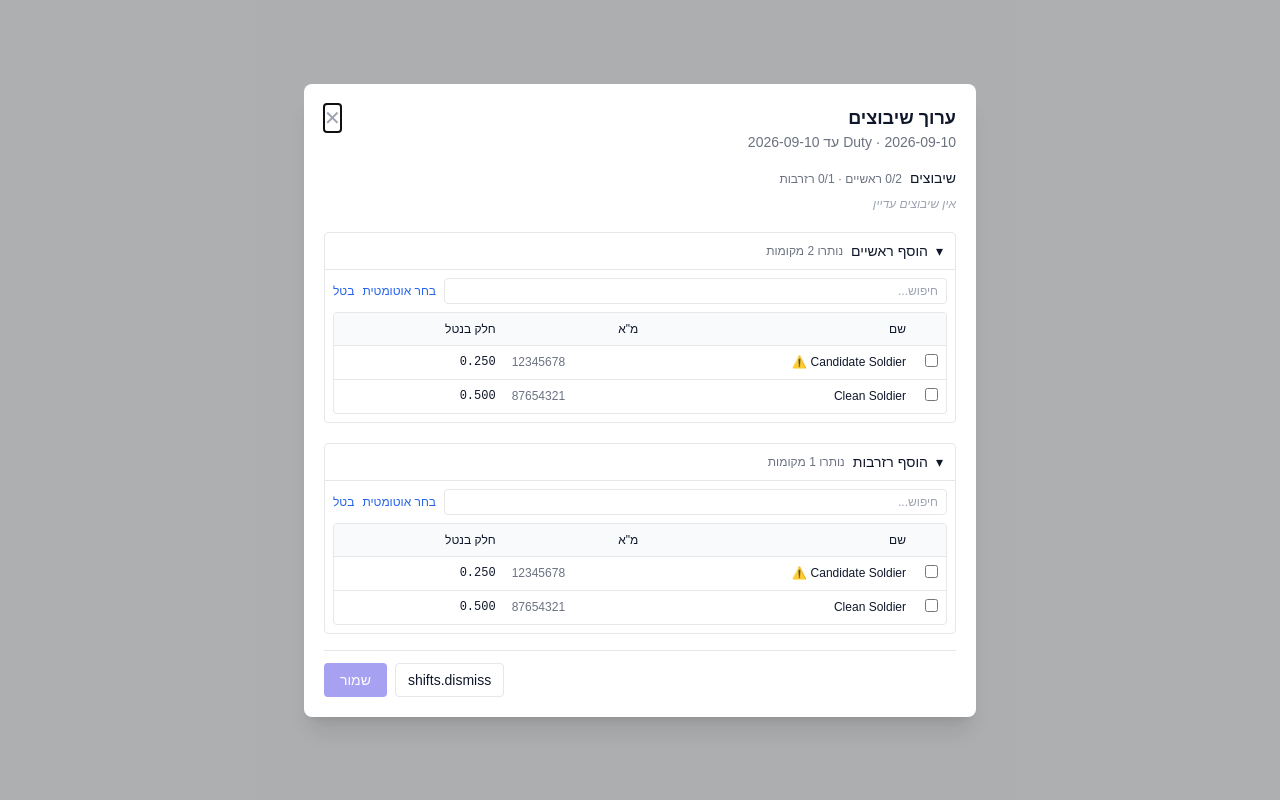
Test: ShiftEditAssignmentsModal personal constraint override › excludes a constrained candidate from auto-select
Expected: the row with test id "manual-primary-candidate-soldier-candidate" is shown, [334,345,946,379]
What coordinates should you click on to do the following:
click the 1st button "בחר אוטומטית"
I would click on:
 (399, 290)
Its box is [362,282,436,298].
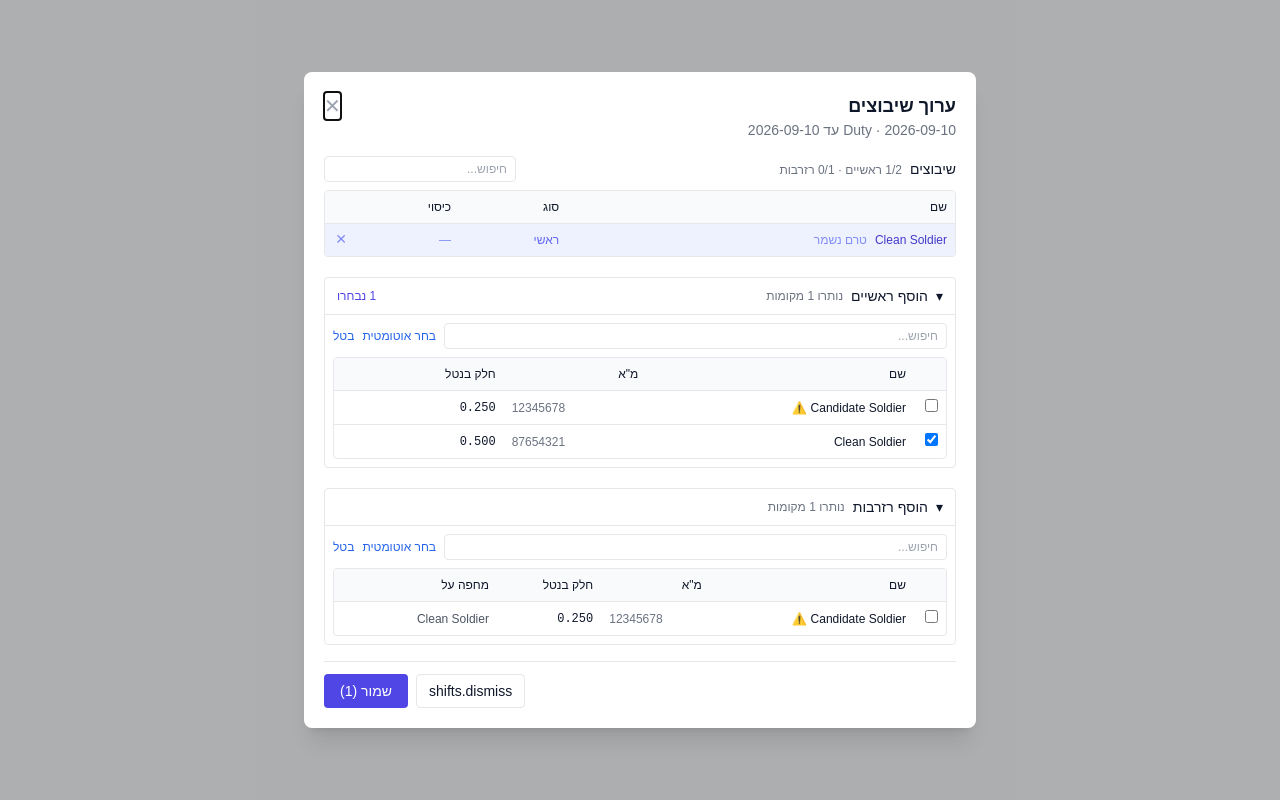
Result: the row with test id "assignment-primary-pending-soldier-clean" is shown at [325,224,955,256]
